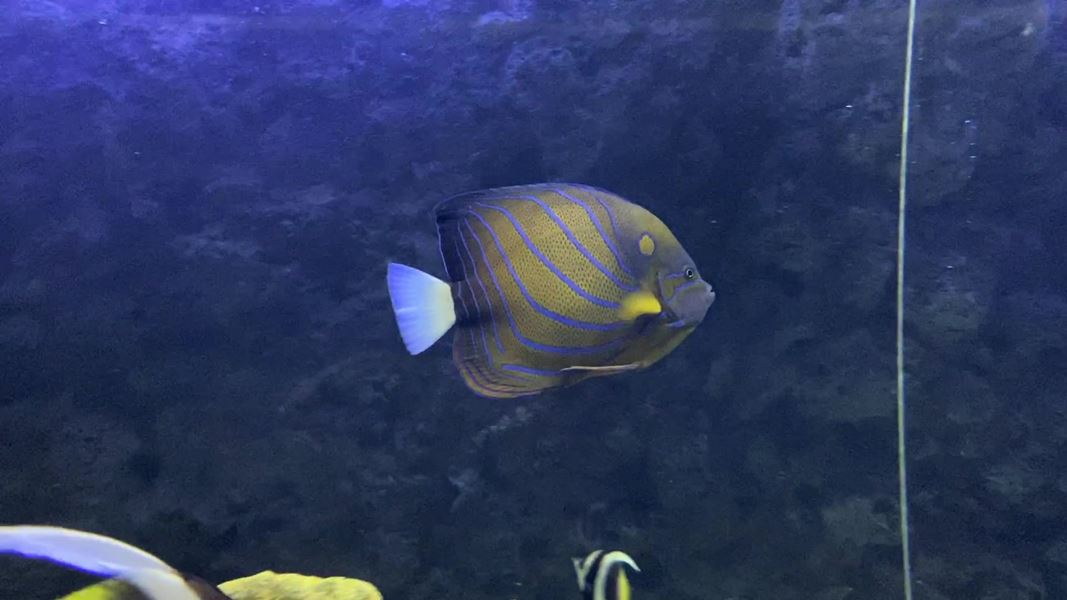Blue ring angelfish: (380, 179, 736, 428)
